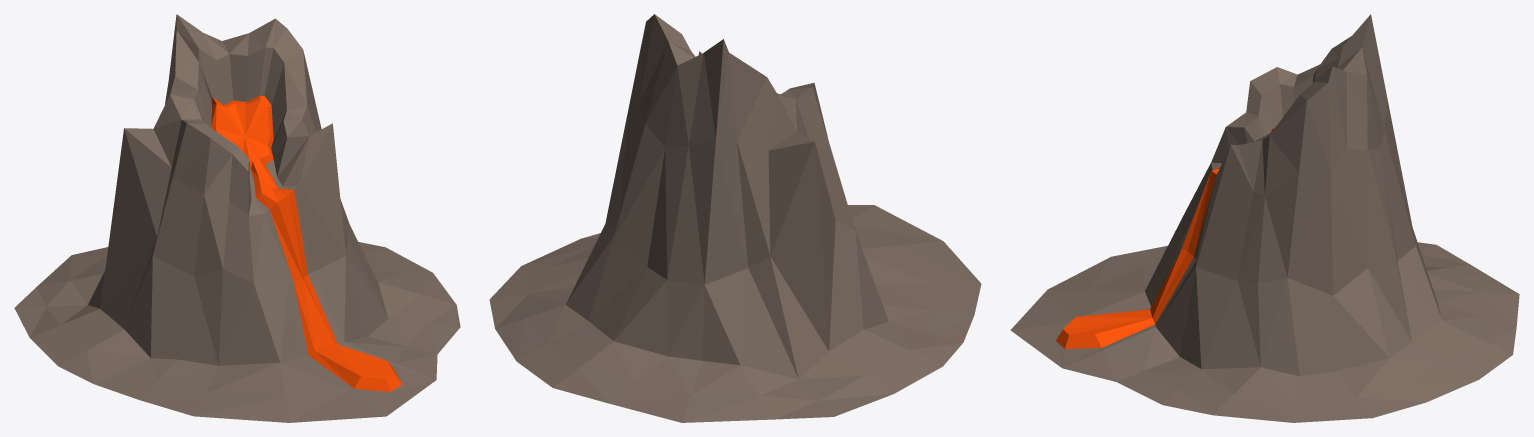
The model's file is 1230 Volcano.obj.
3 views of the same model, side by side, from view 1: azimuth 30°, elevation 25°; view 2: azimuth 150°, elevation 25°; view 3: azimuth 270°, elevation 25° (orthographic). The views are drawn at different scales.
Parts seen in each view (by area): view 1: Volcano; view 2: Volcano; view 3: Volcano.
Part boxes in pixels (<box>): Volcano: <box>14,14,460,422</box>; Volcano: <box>489,14,981,422</box>; Volcano: <box>1010,14,1519,422</box>.
Bounding box in the file's own units: 201 × 145 × 226.
Materials: 1 (1 with a texture image).
